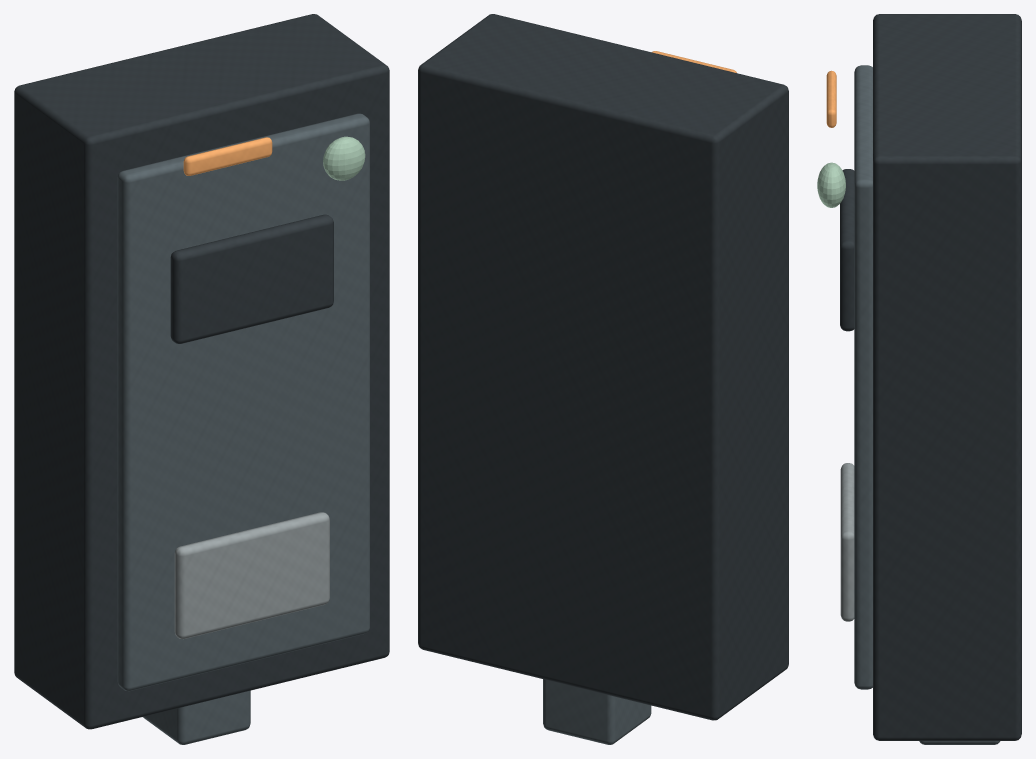
Rendered from GasDetector.glb.
The picture shows the model from 3 angles, left to right: view 1: azimuth 30°, elevation 25°; view 2: azimuth 150°, elevation 25°; view 3: azimuth 270°, elevation 25°; orthographic projection.
Visible parts, largest first — view 1: GasDetector_Mesh; view 2: GasDetector_Mesh; view 3: GasDetector_Mesh.
Part boxes in pixels (left/top/right/bottom): GasDetector_Mesh: left=14, top=14, right=389, bottom=744; GasDetector_Mesh: left=418, top=14, right=788, bottom=744; GasDetector_Mesh: left=817, top=14, right=1021, bottom=744.
Size of the model in its own units: 0.42 by 0.86 by 0.2475.
5 materials, 5 textured.
